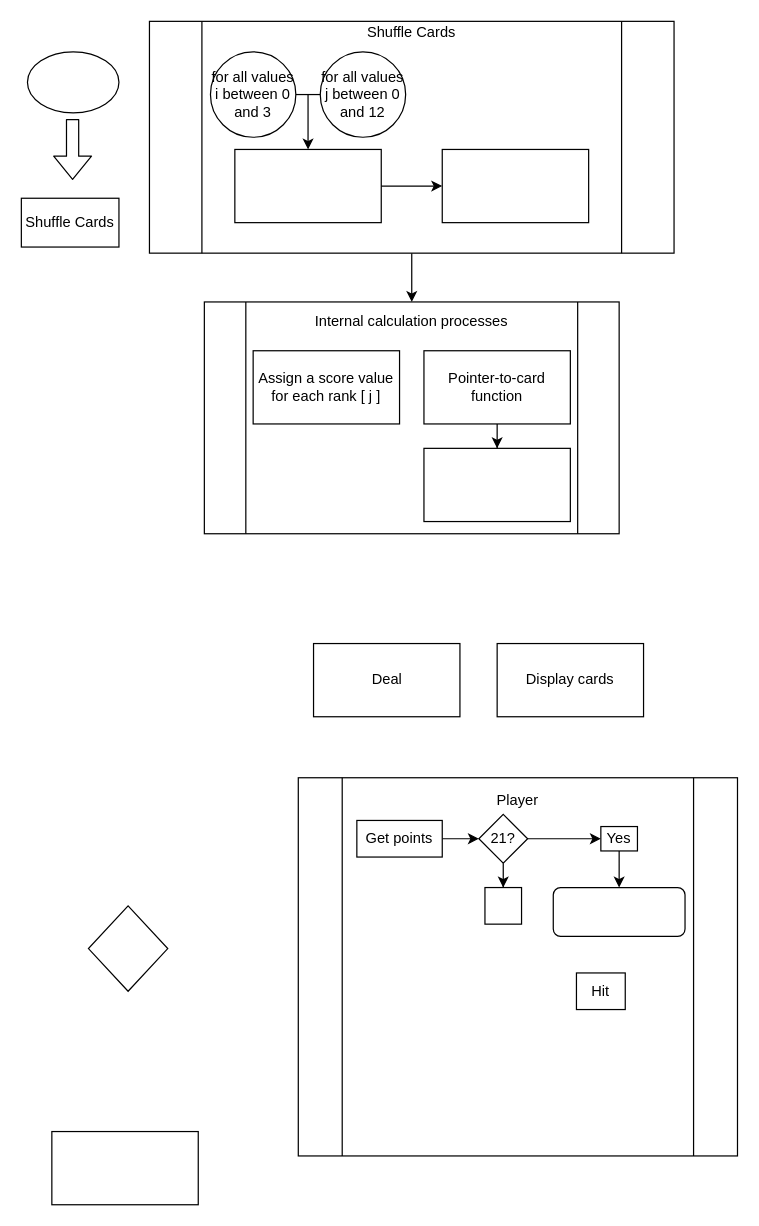
Some shapes in this 759 by 1226 pixel diagram are drawn without their labels. Here are the shapes that lost their labels. From the top down, the centre of each, then its label:
At point 72,82: "Start".
At point 307,185: "Enumerate 52 cards".
At point 515,185: "Generate a random number seed to shuffle the cards into an array".
At point 496,484: "Remove pointed-to card from array when called".
At point 503,905: "No".
At point 618,911: "Win, Restart Sequence".
At point 127,948: "Decision".
